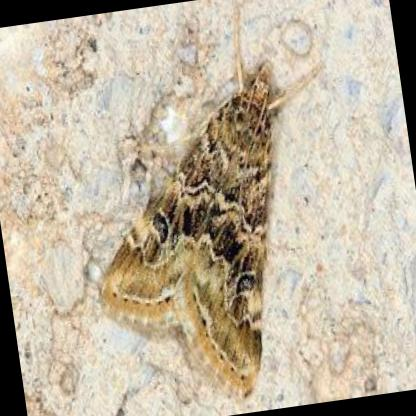Hellula undalis: (93, 4, 331, 398)
